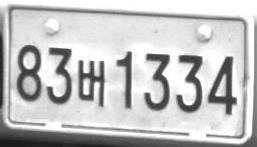1: (112, 50, 140, 109)
3: (175, 54, 204, 113), (143, 52, 171, 111), (46, 46, 72, 104)
4: (207, 55, 237, 115)
8: (15, 44, 43, 102)
버: (77, 60, 105, 107)
